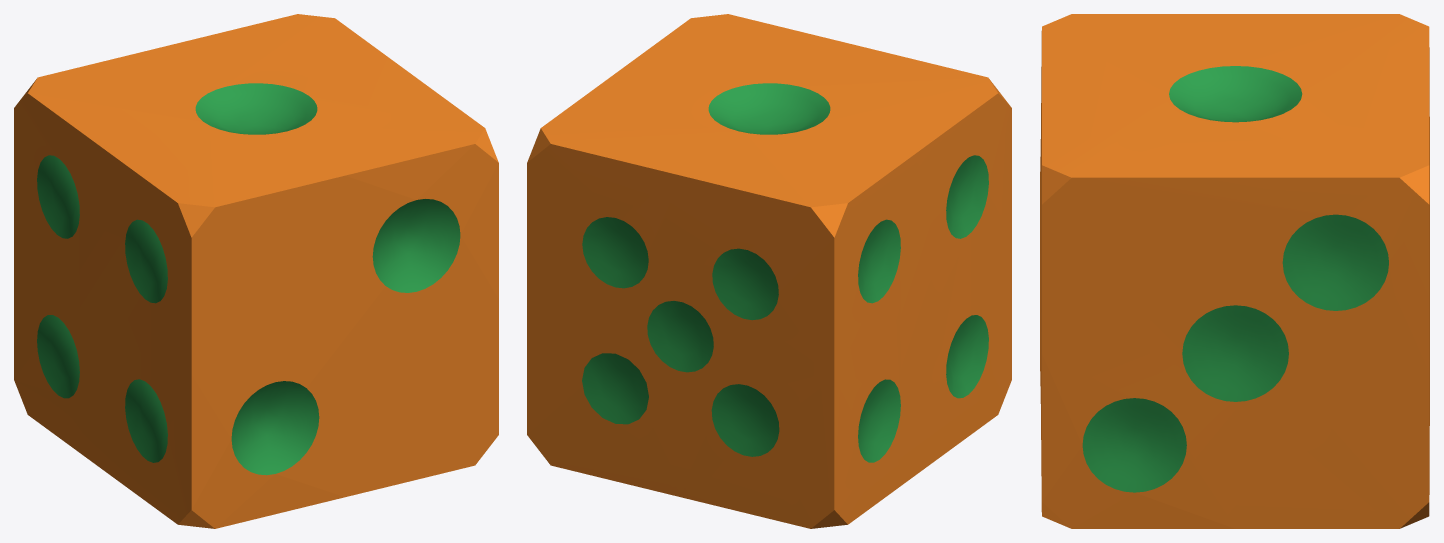
The model's file is Dice_Orange.fbx.
3 views of the same model, side by side, from view 1: azimuth 30°, elevation 25°; view 2: azimuth 150°, elevation 25°; view 3: azimuth 270°, elevation 25° (orthographic). The views are drawn at different scales.
Visible parts, largest first — view 1: Dice_Orange; view 2: Dice_Orange; view 3: Dice_Orange.
Part boxes in pixels (x1=…): Dice_Orange: x1=14, y1=14, x2=498, y2=528; Dice_Orange: x1=527, y1=14, x2=1011, y2=528; Dice_Orange: x1=1040, y1=14, x2=1429, y2=528.
Size of the model in its own units: 110 by 111 by 111.
